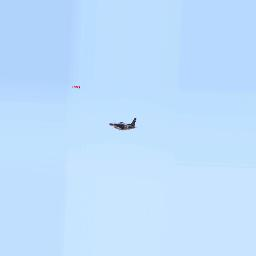Airplane: (109, 116, 137, 132)
